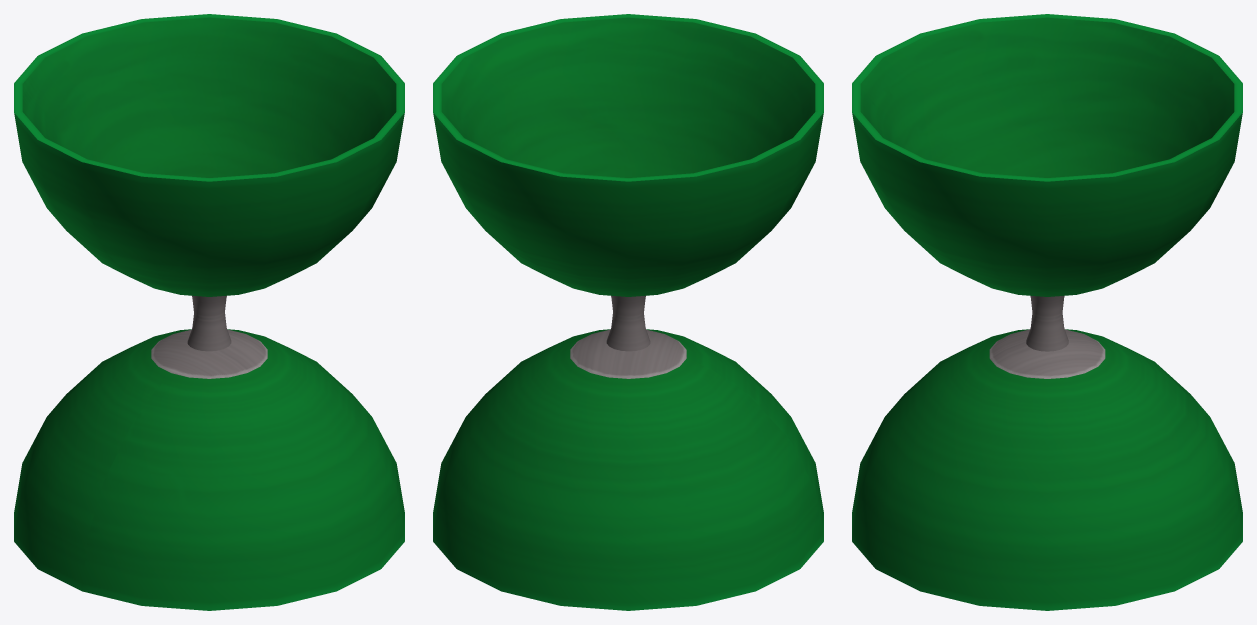
Rendered from Diabolo_Green_Scaled.fbx.
3 views of the same model, side by side, from view 1: azimuth 30°, elevation 25°; view 2: azimuth 150°, elevation 25°; view 3: azimuth 270°, elevation 25° (orthographic).
Visible parts, largest first — view 1: Diabolo_Body11; view 2: Diabolo_Body11; view 3: Diabolo_Body11.
Part boxes in pixels (left/top/right/bottom): Diabolo_Body11: left=14, top=14, right=404, bottom=610; Diabolo_Body11: left=433, top=14, right=823, bottom=610; Diabolo_Body11: left=852, top=14, right=1242, bottom=610.
Size of the model in its own units: 9.85 by 11.75 by 9.7.
